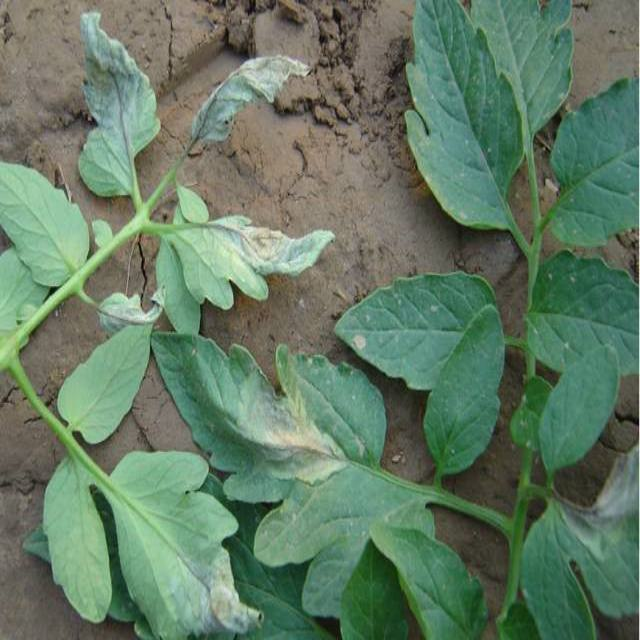Late_blight: (223, 351, 349, 485), (72, 11, 162, 198), (181, 49, 312, 173), (160, 542, 264, 640), (205, 213, 338, 280), (94, 283, 166, 337)
